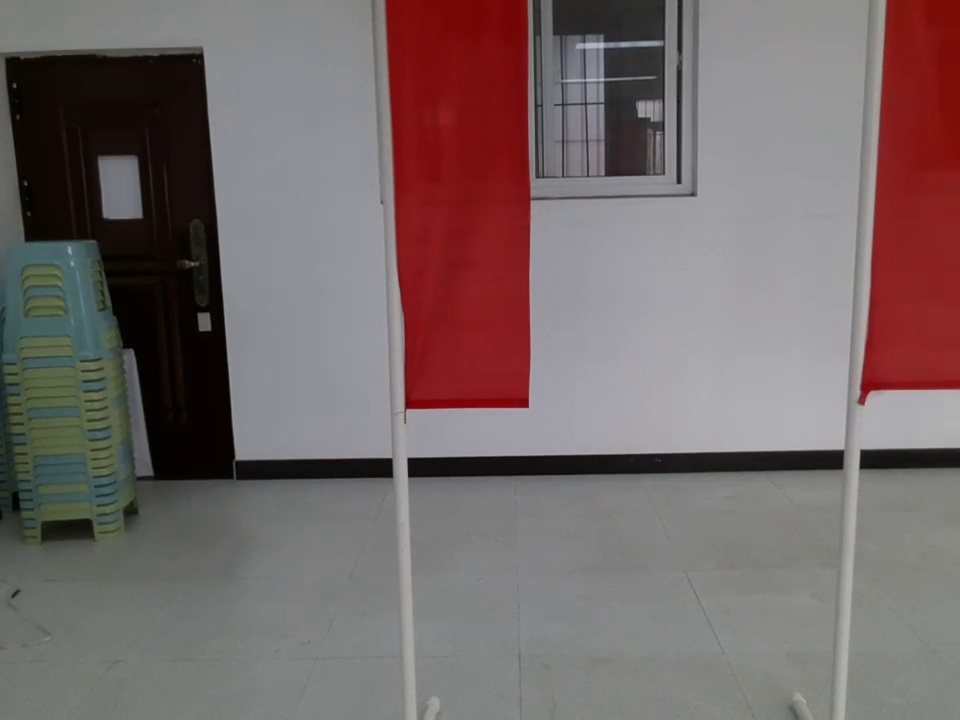qi: (369, 1, 545, 427), (849, 1, 960, 417)
